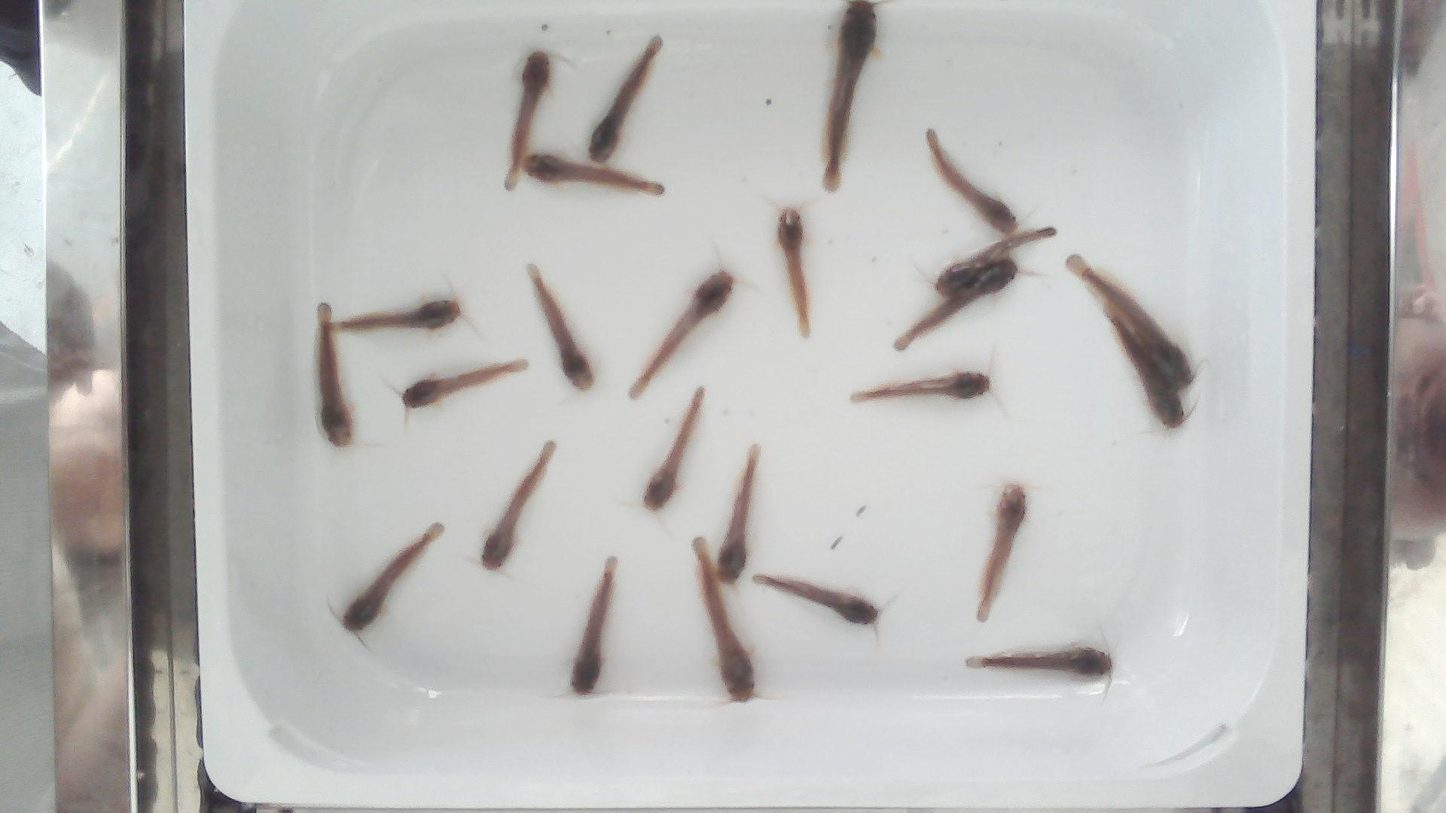lele: (1065, 255, 1195, 388), (1090, 283, 1185, 430), (630, 269, 734, 398), (689, 535, 755, 704), (342, 522, 443, 631), (894, 260, 1015, 350), (822, 0, 877, 191), (481, 440, 556, 569), (926, 129, 1017, 234), (587, 37, 660, 161), (527, 265, 594, 389), (933, 229, 1057, 294), (644, 387, 704, 510), (977, 484, 1026, 621), (505, 50, 551, 190), (754, 574, 879, 624), (571, 557, 616, 694), (524, 151, 664, 195), (717, 445, 760, 583), (402, 361, 526, 407), (317, 304, 352, 446), (776, 208, 810, 337), (966, 646, 1112, 676), (850, 371, 990, 401), (340, 297, 459, 329)
